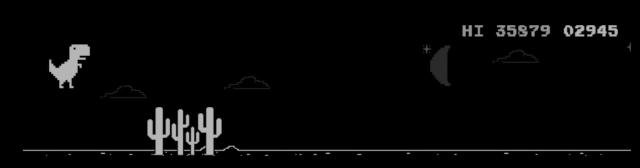cactus: (148, 108, 170, 155), (199, 108, 221, 155), (172, 110, 189, 155), (186, 127, 199, 155)
dinosaur: (49, 45, 90, 88)
